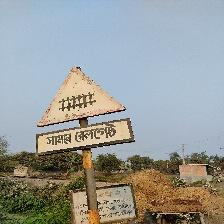Rail-crossing: (36, 66, 132, 156)
